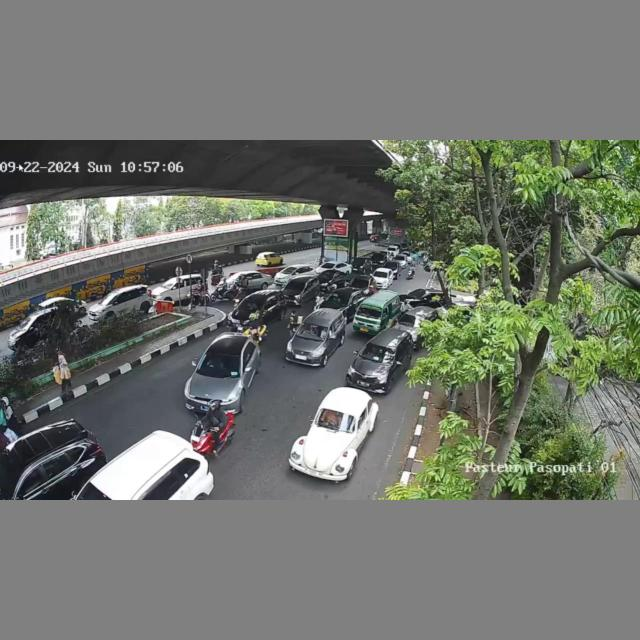windshield: (197, 354, 241, 376), (318, 409, 357, 432), (361, 344, 395, 364), (297, 324, 327, 340), (238, 297, 262, 313), (356, 304, 382, 317), (327, 293, 350, 304), (284, 281, 305, 290)
